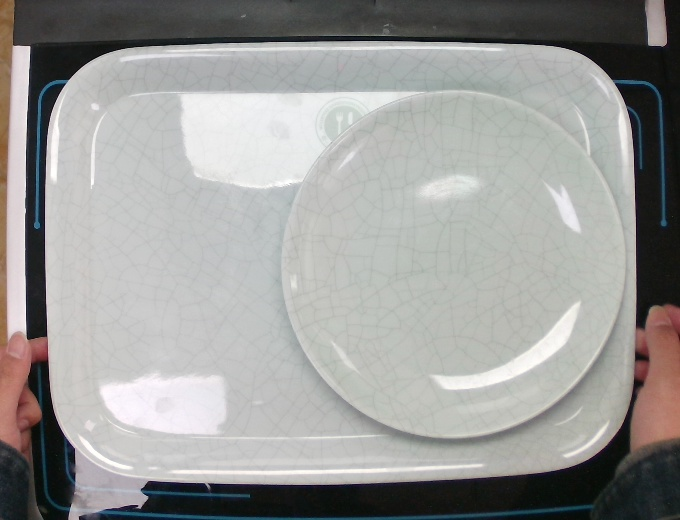JYsf-Da_Yuan_Pan: (263, 87, 630, 444)
